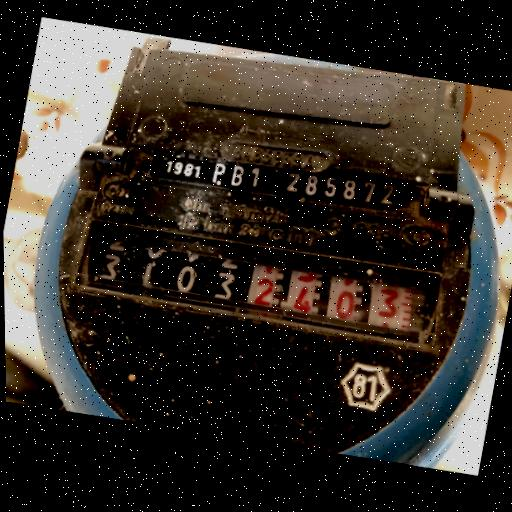0: (323, 274, 368, 325), (167, 250, 215, 297)
1: (129, 242, 177, 291)
2: (247, 264, 285, 309)
3: (365, 281, 417, 332), (93, 237, 138, 284), (207, 255, 249, 303)
4: (278, 266, 325, 317)
border_water_meter_number: (70, 199, 451, 363)
